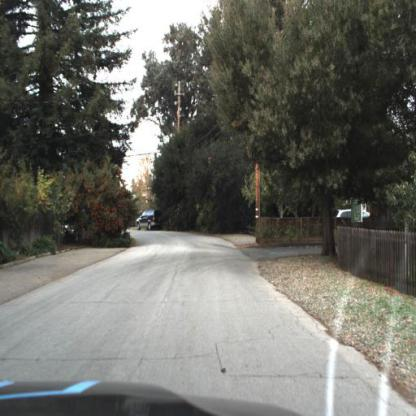car: (325, 193, 372, 234), (131, 203, 164, 239)
